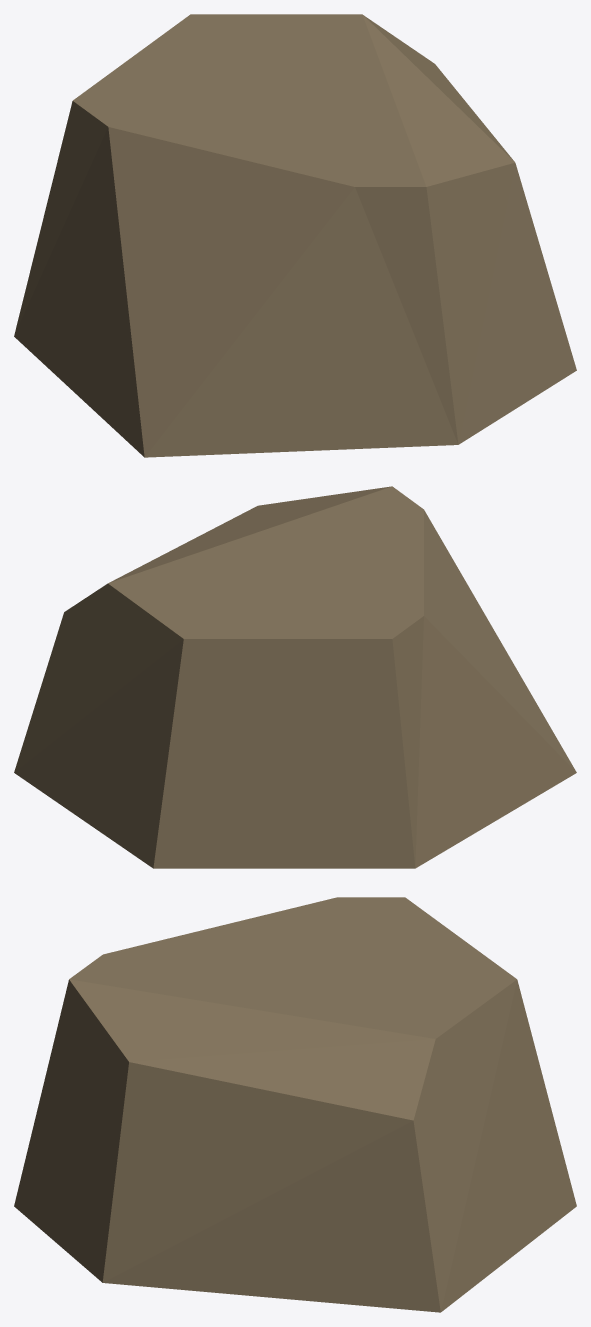
Rendered from TB_D_Env_RockE_C.FBX.
3 views of the same model, one above another, from view 1: azimuth 30°, elevation 25°; view 2: azimuth 150°, elevation 25°; view 3: azimuth 270°, elevation 25° (orthographic). The views are drawn at different scales.
Parts seen in each view (by area): view 1: TB_D_Env_RockE_C; view 2: TB_D_Env_RockE_C; view 3: TB_D_Env_RockE_C.
Boxes of the visible parts, x1,y1,x2,y2 form: TB_D_Env_RockE_C: (14,14,576,457); TB_D_Env_RockE_C: (14,486,576,868); TB_D_Env_RockE_C: (14,897,576,1312).
Bounding box in the file's own units: 0.9787 × 0.465 × 1.05.
